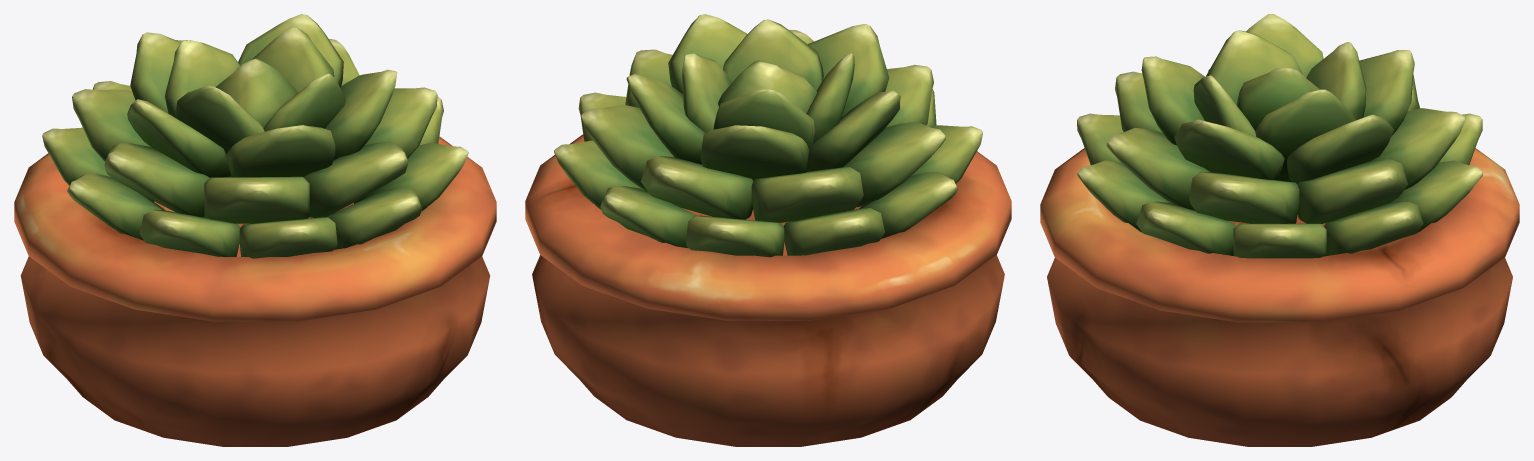
The model's file is Echeveria 1.fbx.
The picture shows the model from 3 angles, left to right: view 1: azimuth 30°, elevation 25°; view 2: azimuth 150°, elevation 25°; view 3: azimuth 270°, elevation 25°; orthographic projection.
Parts seen in each view (by area): view 1: Echeveria 1; view 2: Echeveria 1; view 3: Echeveria 1.
Part boxes in pixels (x1,y1,x2,y2): Echeveria 1: (14, 14, 496, 446); Echeveria 1: (525, 14, 1011, 446); Echeveria 1: (1040, 14, 1519, 446).
Bounding box in the file's own units: 25.46 × 18.5 × 25.86.
